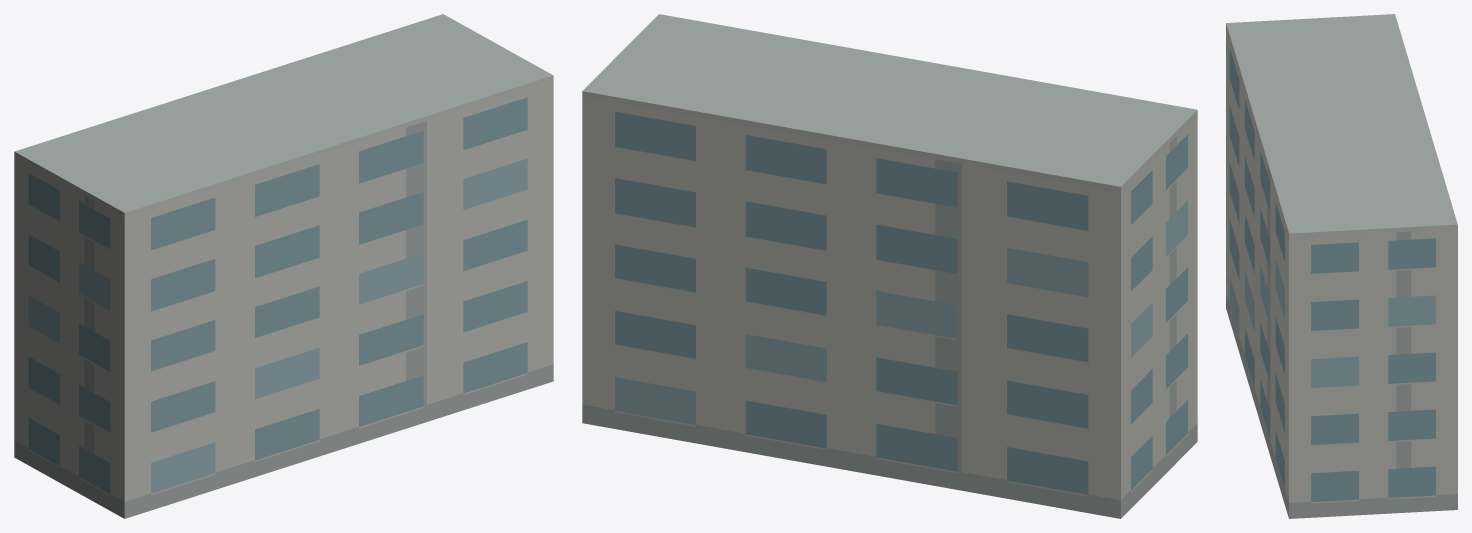
Rendered from residential-00b7a7e3-ce21-4e8b-999b-b2addaabcb27.glb.
3 renders of one model, left to right at view 1: azimuth 30°, elevation 25°; view 2: azimuth 150°, elevation 25°; view 3: azimuth 270°, elevation 25°, orthographic. The views are drawn at different scales.
Parts seen in each view (by area): view 1: residential-00b7a7e3-ce21-4e8b-999b-b2addaabcb27.tmp; view 2: residential-00b7a7e3-ce21-4e8b-999b-b2addaabcb27.tmp; view 3: residential-00b7a7e3-ce21-4e8b-999b-b2addaabcb27.tmp.
Boxes of the visible parts, left/top/right/bottom form: residential-00b7a7e3-ce21-4e8b-999b-b2addaabcb27.tmp: left=14, top=14, right=553, bottom=518; residential-00b7a7e3-ce21-4e8b-999b-b2addaabcb27.tmp: left=582, top=14, right=1197, bottom=518; residential-00b7a7e3-ce21-4e8b-999b-b2addaabcb27.tmp: left=1226, top=14, right=1457, bottom=518.
Size of the model in its own units: 25.17 by 15.25 by 11.23.
